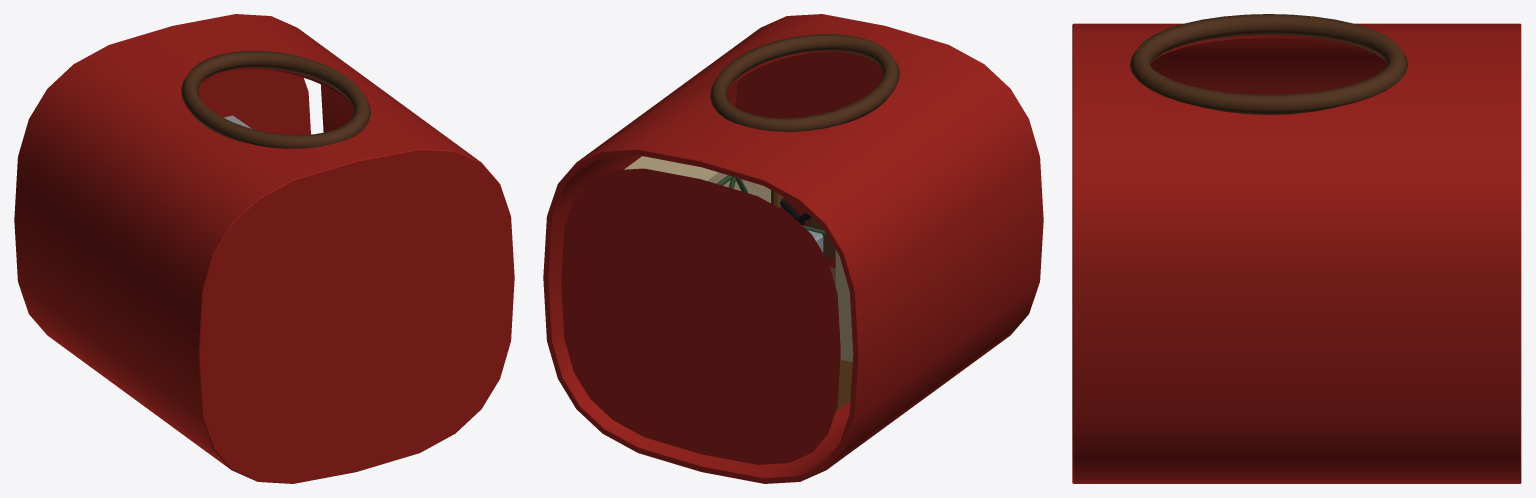
Rendered from cockpit_radial.glb.
3 renders of one model, left to right at view 1: azimuth 30°, elevation 25°; view 2: azimuth 150°, elevation 25°; view 3: azimuth 270°, elevation 25°, orthographic. The views are drawn at different scales.
Parts seen in each view (by area): view 1: Cockpit; view 2: Cockpit; view 3: Cockpit.
Part boxes in pixels (x1=…): Cockpit: x1=14, y1=14, x2=514, y2=483; Cockpit: x1=543, y1=14, x2=1043, y2=483; Cockpit: x1=1072, y1=14, x2=1521, y2=483.
Bounding box in the file's own units: 1.2 × 1.15 × 1.22.
